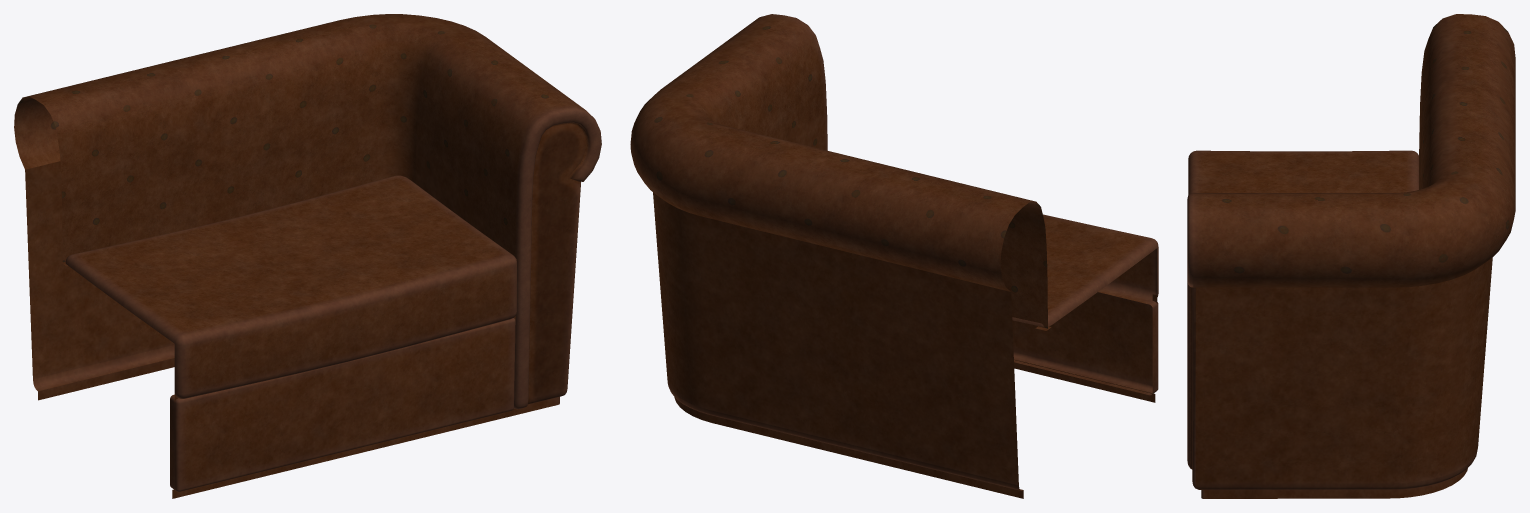
The model's file is SofaRetro01_5.FBX.
The picture shows the model from 3 angles, left to right: view 1: azimuth 30°, elevation 25°; view 2: azimuth 150°, elevation 25°; view 3: azimuth 270°, elevation 25°; orthographic projection. The views are drawn at different scales.
Visible parts, largest first — view 1: SofaRetro01_5; view 2: SofaRetro01_5; view 3: SofaRetro01_5.
Boxes of the visible parts, x1,y1,x2,y2 form: SofaRetro01_5: (14,14,601,498); SofaRetro01_5: (630,14,1158,498); SofaRetro01_5: (1187,14,1515,498).
Size of the model in its own units: 1492 by 1007 by 1008.
